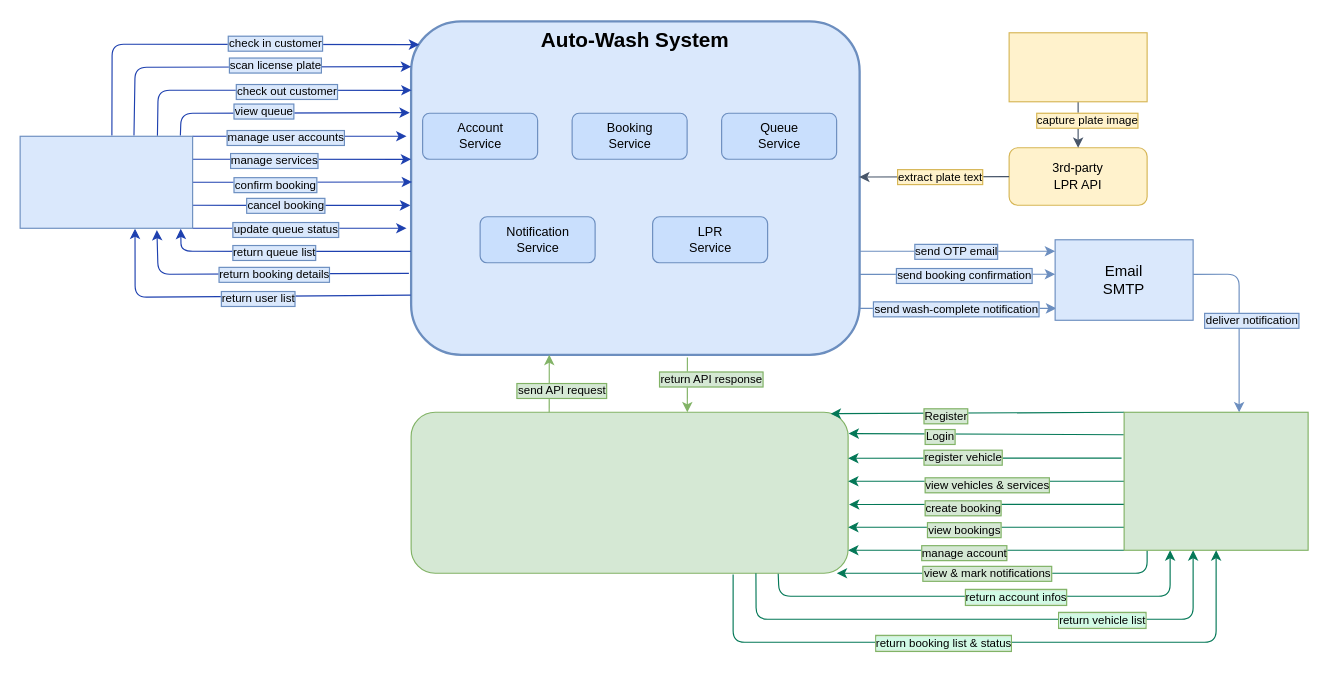
The diagram is 1328 pixels wide and 697 high, and some of its shapes have lost their labels. Here are the shapes that lost their labels. From the top down, the centre of each, then its label:
At point (1077, 67): "Camera LPR".
At point (106, 181): "Staff".
At point (629, 492): "Mobile Web".
At point (1215, 480): "Customer".
